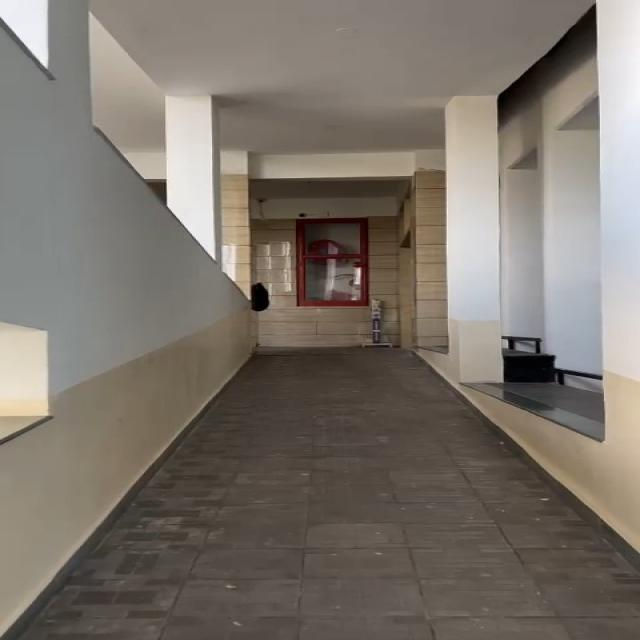floor: (238, 371, 505, 640)
wall: (3, 17, 272, 497), (376, 72, 640, 446)
